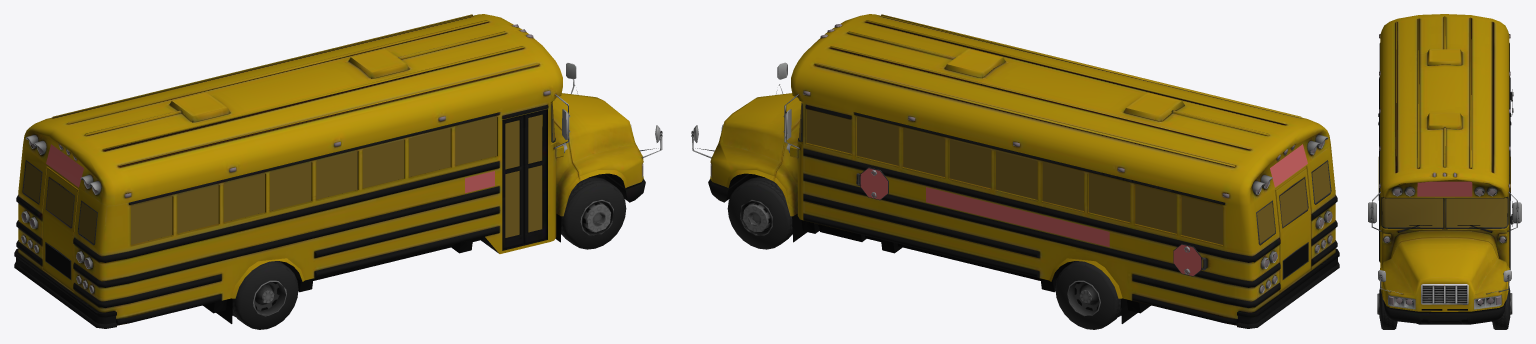
The model's file is civ-schoolbus.lod0.glb.
The picture shows the model from 3 angles, left to right: view 1: azimuth 30°, elevation 25°; view 2: azimuth 150°, elevation 25°; view 3: azimuth 270°, elevation 25°; orthographic projection. The views are drawn at different scales.
Parts seen in each view (by area): view 1: school_bus_schoolbus_tex_0, school_bus_schoolbus_glass_0; view 2: school_bus_schoolbus_tex_0, school_bus_schoolbus_glass_0; view 3: school_bus_schoolbus_tex_0, school_bus_schoolbus_glass_0.
Boxes of the visible parts, bbox=[...] form: school_bus_schoolbus_tex_0: bbox=[14, 14, 662, 329]; school_bus_schoolbus_glass_0: bbox=[21, 24, 643, 292]; school_bus_schoolbus_tex_0: bbox=[691, 14, 1339, 329]; school_bus_schoolbus_glass_0: bbox=[710, 24, 1332, 291]; school_bus_schoolbus_tex_0: bbox=[1368, 14, 1521, 329]; school_bus_schoolbus_glass_0: bbox=[1379, 34, 1510, 305].
Size of the model in its own units: 7.9 by 2.67 by 2.55.
Materials: 2 (1 with a texture image).
